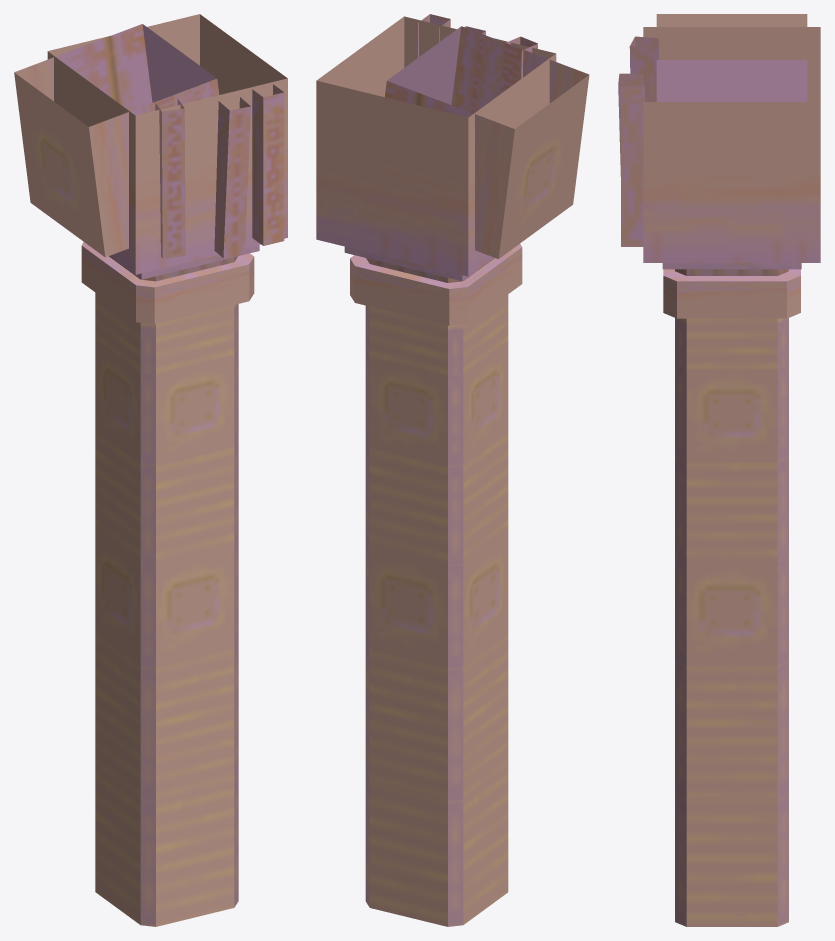
Rendered from MainMenu_3DPillar_1.fbx.
3 renders of one model, left to right at view 1: azimuth 30°, elevation 25°; view 2: azimuth 150°, elevation 25°; view 3: azimuth 270°, elevation 25°, orthographic.
Visible parts, largest first — view 1: Pillar1; view 2: Pillar1; view 3: Pillar1.
Part boxes in pixels (bbox=[...]): Pillar1: bbox=[14, 14, 287, 926]; Pillar1: bbox=[316, 14, 589, 926]; Pillar1: bbox=[618, 14, 820, 926].
Bounding box in the file's own units: 8.48 × 35.49 × 7.67.
